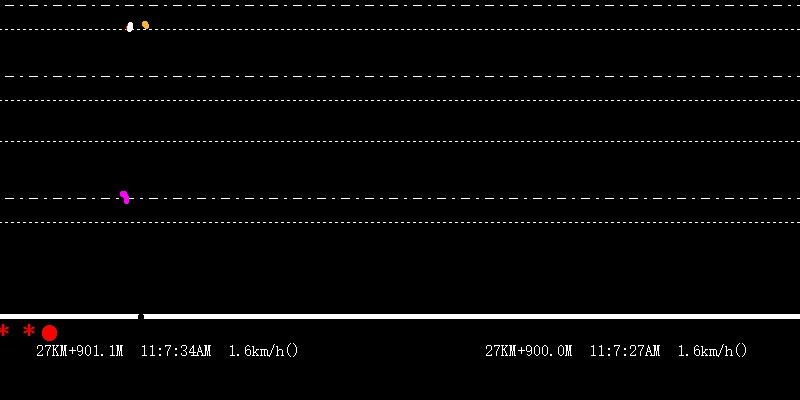circle: (39, 322, 61, 345)
face_1: (140, 16, 151, 35)
face_s: (123, 13, 136, 37)
star: (20, 322, 37, 340)
